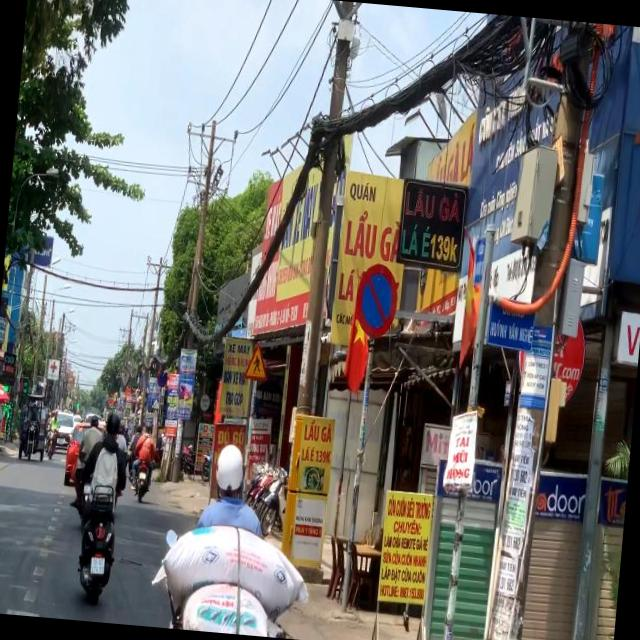P-131a: (354, 262, 398, 336)
W-224: (242, 340, 270, 381)
